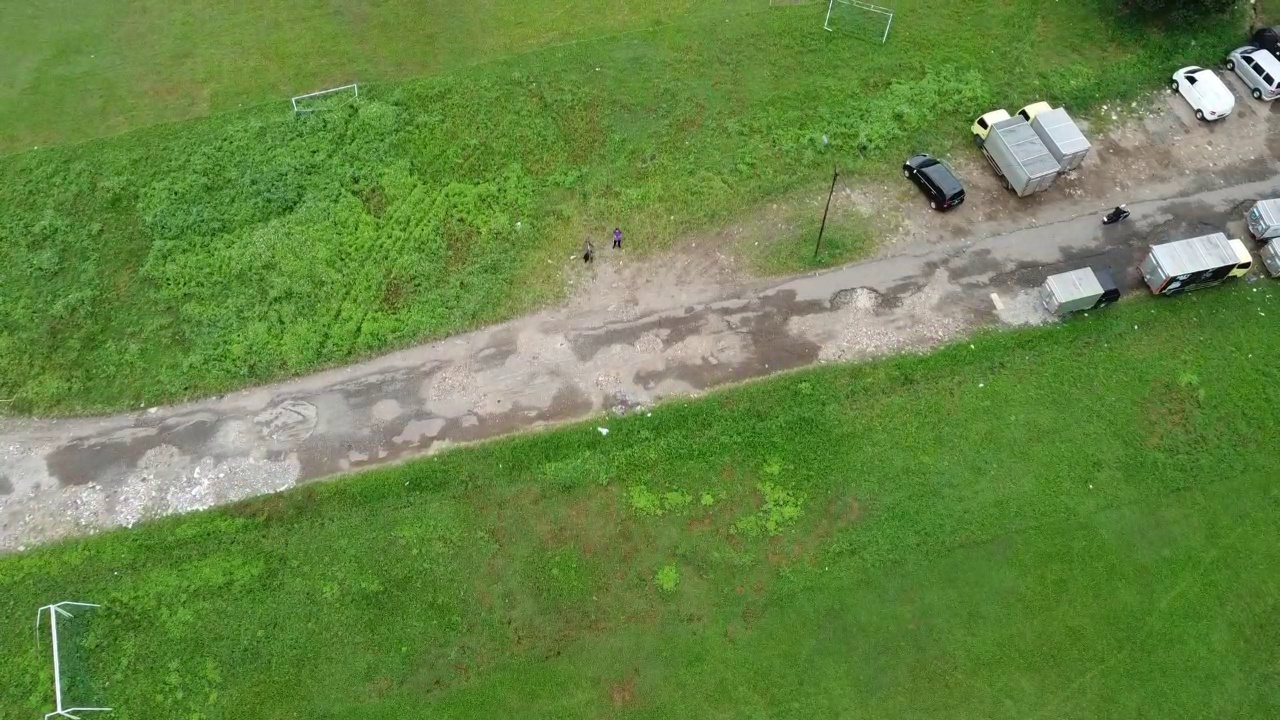mobil: (1167, 56, 1243, 128), (892, 151, 972, 216), (1222, 36, 1280, 110)
